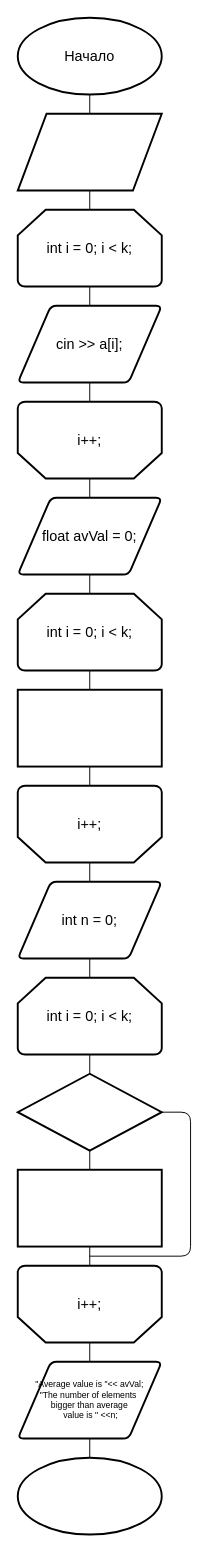
Some shapes in this 208 by 1551 pixel diagram are drawn without their labels. Each missing label, with the centre of its shape:
"a[i] > avVal" belongs at (89,1111).
"avVal += a[i];" belongs at (89,727).
"const int k = 7; float a[k];" belongs at (89,151).
"n++;" belongs at (89,1207).
"Конец" belongs at (89,1495).
